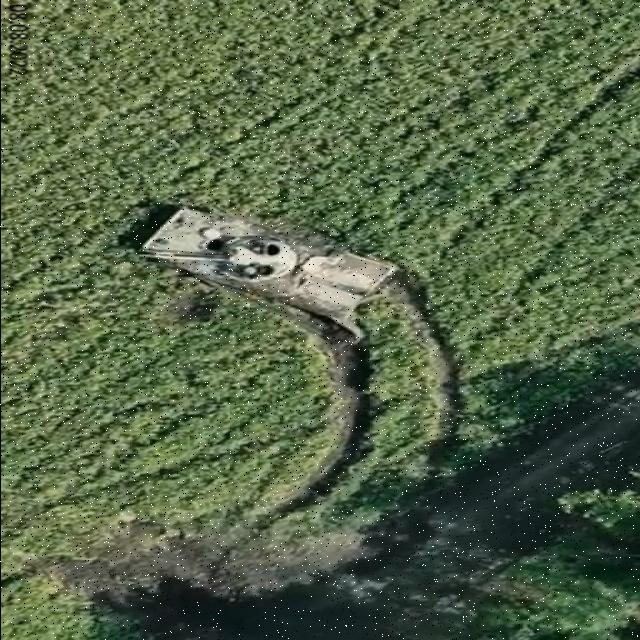APC-IFV: (132, 198, 396, 320)
